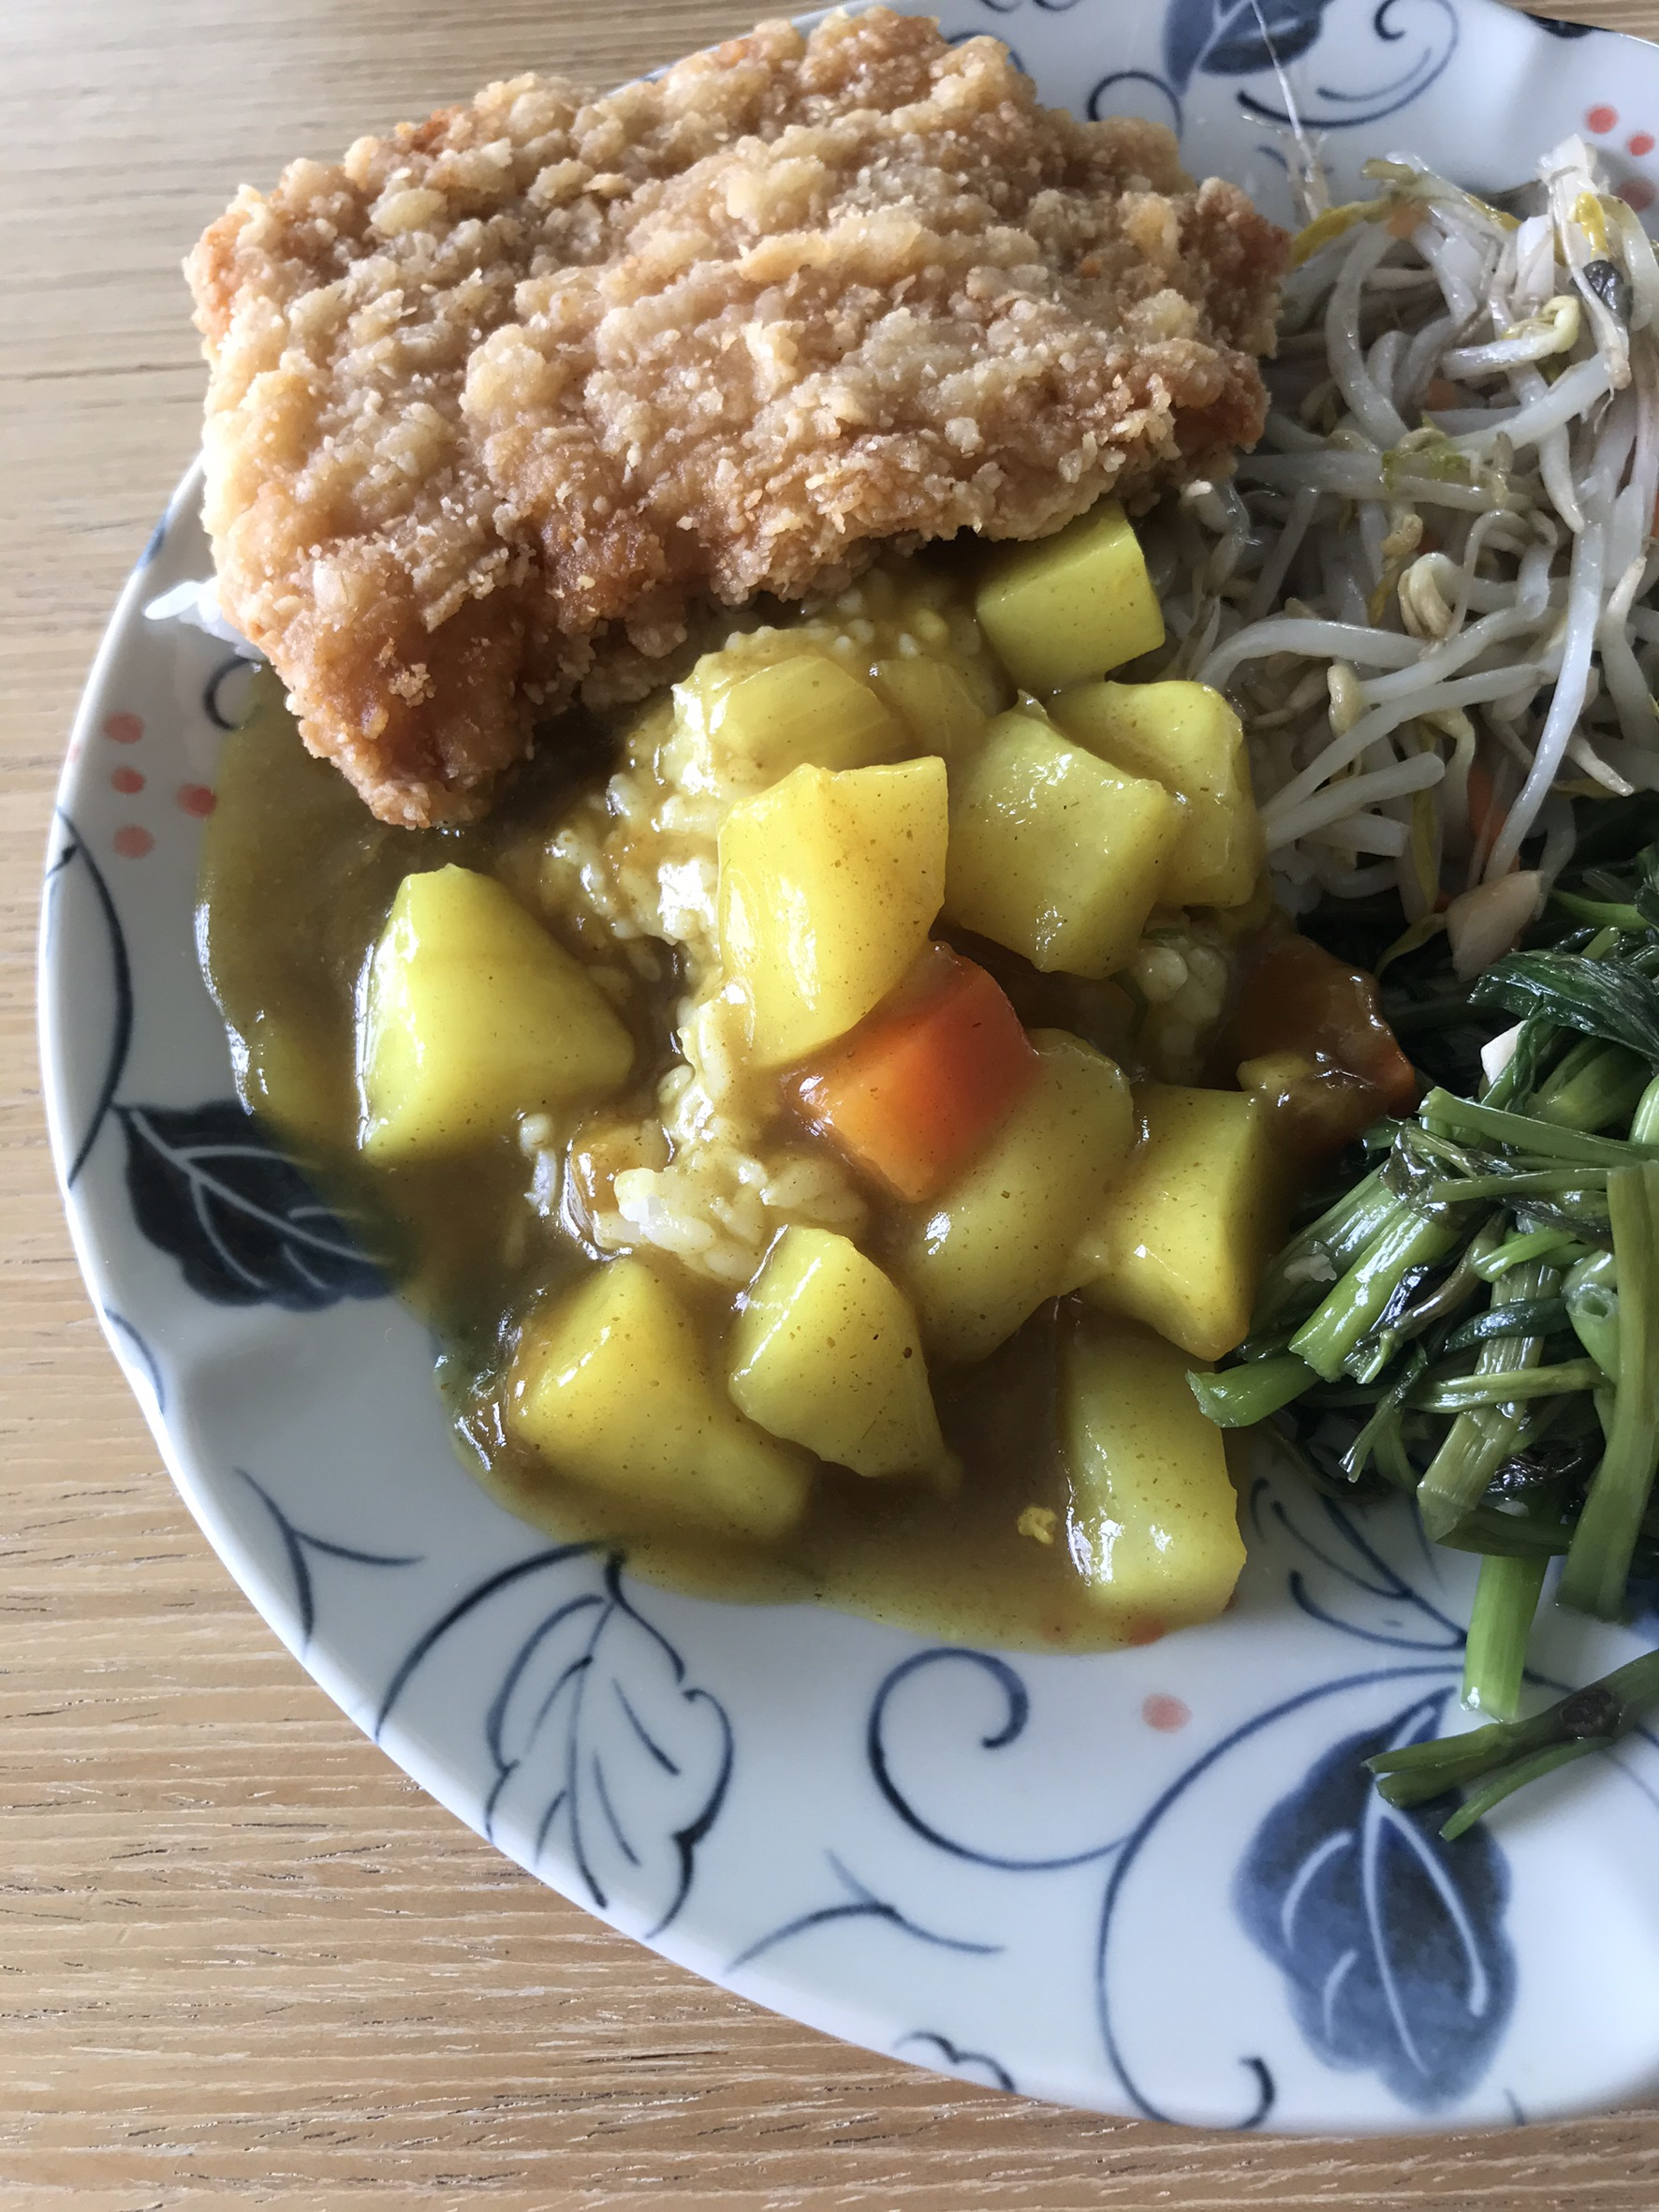curry: (443, 701, 1310, 1541)
fried_chicken: (235, 139, 1133, 511)
mung_bean_sprouts: (1291, 127, 1659, 823)
water_spinach: (1345, 910, 1659, 1658)
